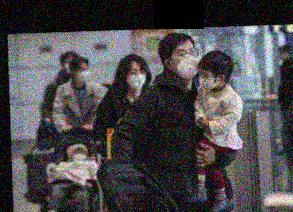with_mask: (171, 45, 200, 80), (125, 65, 147, 91), (196, 67, 217, 90), (75, 65, 91, 82), (71, 148, 87, 162)
